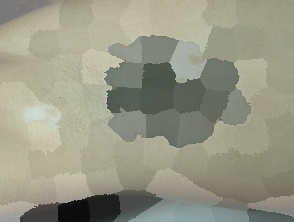vitiligo: (89, 20, 265, 161), (13, 90, 66, 143)
